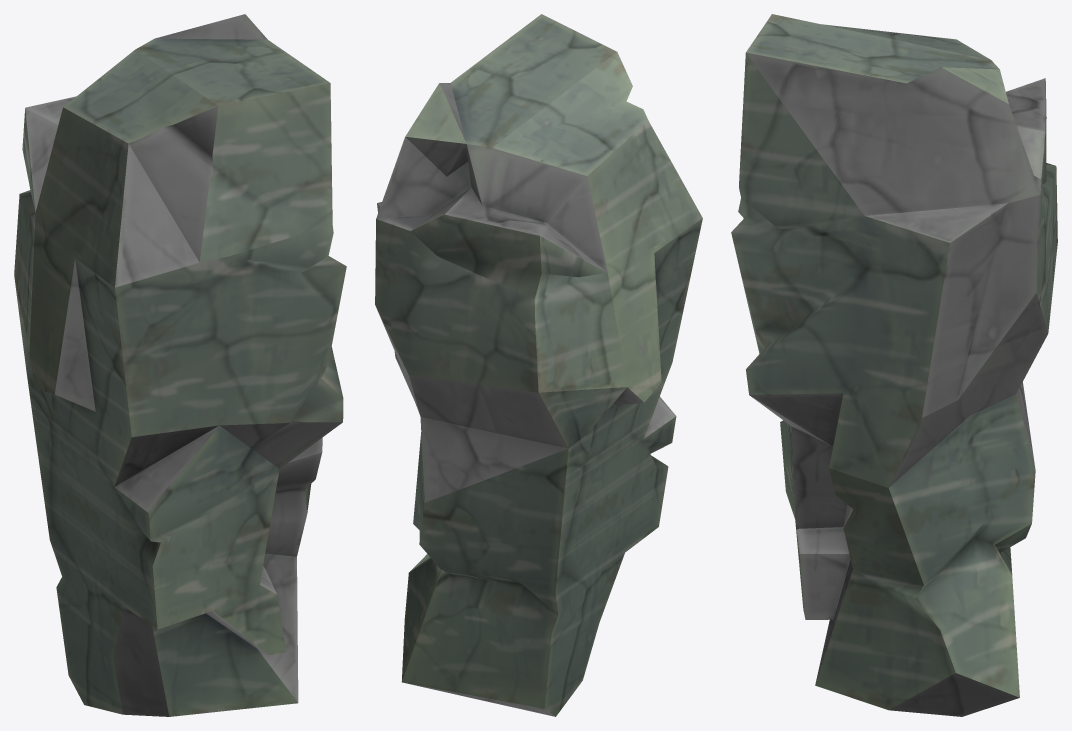
The model's file is obj_harvest_stonechunk02.fbx.
3 renders of one model, left to right at view 1: azimuth 30°, elevation 25°; view 2: azimuth 150°, elevation 25°; view 3: azimuth 270°, elevation 25°, orthographic. The views are drawn at different scales.
Visible parts, largest first — view 1: hvs_rock_chunk02; view 2: hvs_rock_chunk02; view 3: hvs_rock_chunk02.
Part boxes in pixels (box(x1,y1,x2,y2)): hvs_rock_chunk02: box(14, 14, 346, 716); hvs_rock_chunk02: box(375, 14, 702, 716); hvs_rock_chunk02: box(731, 14, 1057, 716).
Size of the model in its own units: 3.68 by 8.34 by 3.73.
